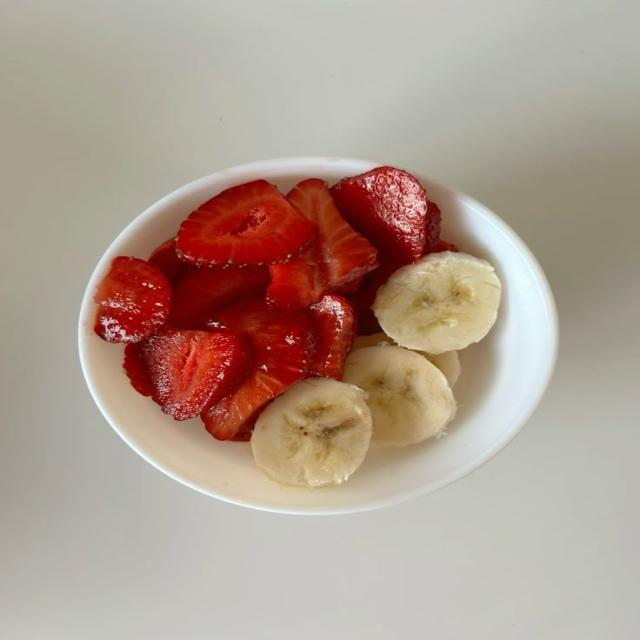banana slice: (250, 379, 372, 488), (372, 252, 501, 354), (344, 344, 456, 446), (418, 351, 460, 388), (353, 331, 394, 349)
strawberry sliced: (201, 301, 317, 439), (267, 179, 377, 309), (178, 180, 314, 264), (142, 328, 249, 420), (331, 167, 427, 263), (94, 257, 171, 342), (168, 267, 269, 329), (307, 295, 356, 380), (347, 261, 402, 335), (267, 243, 326, 311), (423, 201, 459, 255), (148, 238, 188, 283), (123, 343, 153, 396), (425, 201, 441, 253), (230, 415, 257, 441), (432, 240, 459, 253)
